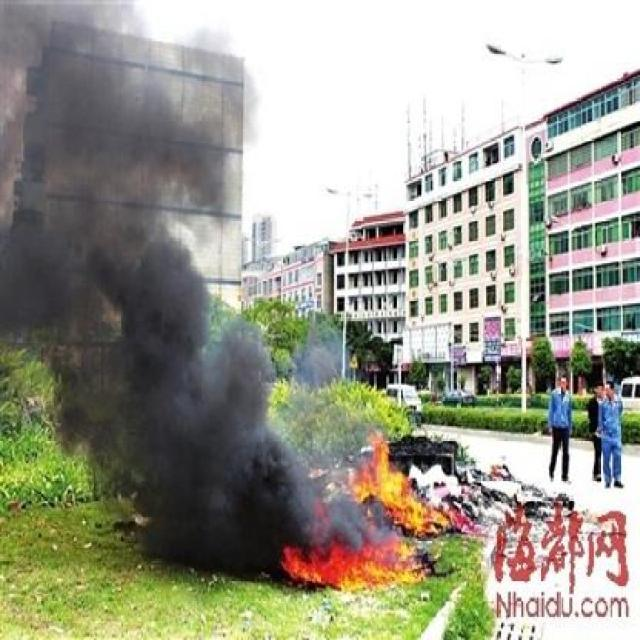Fire: (287, 434, 470, 590)
Smoke: (8, 2, 288, 562)
